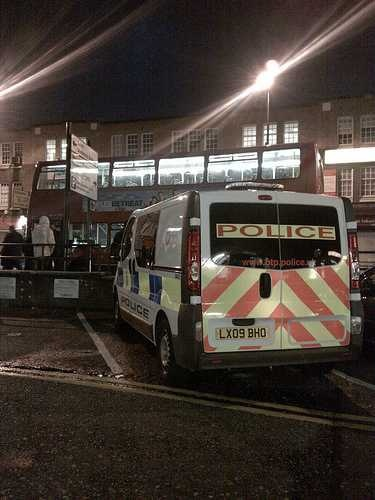Police Van: (108, 195, 365, 392)
